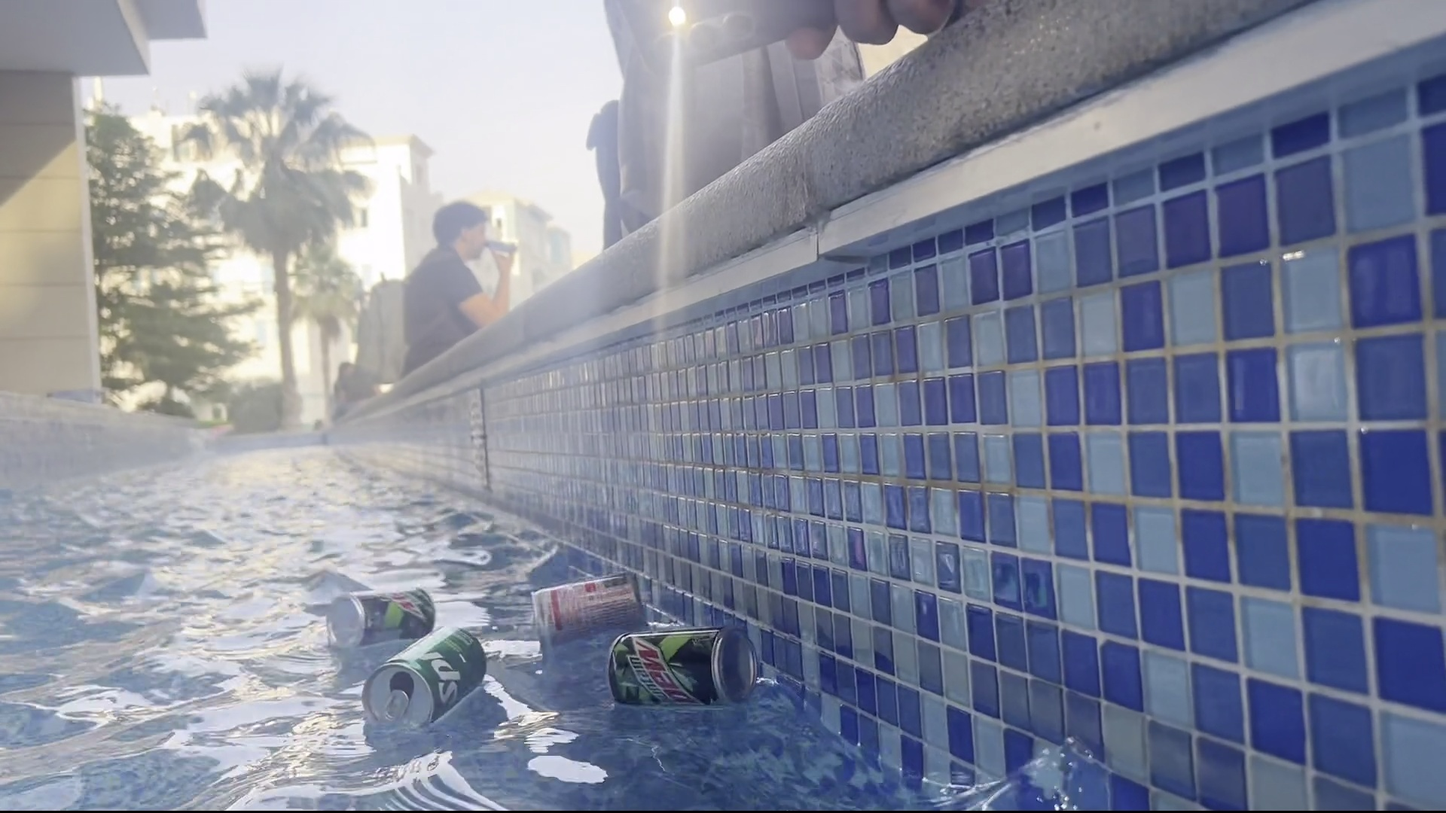debris: (357, 615, 488, 742), (599, 615, 765, 714), (526, 562, 651, 653), (323, 572, 441, 654)
